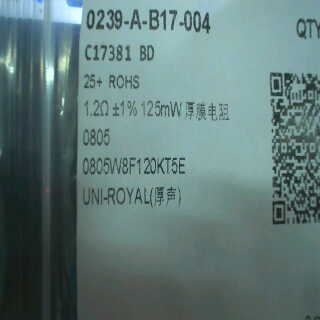1.2R: (78, 96, 111, 153)
